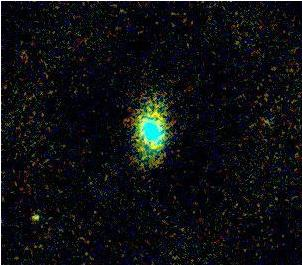star: (20, 202, 50, 232)
